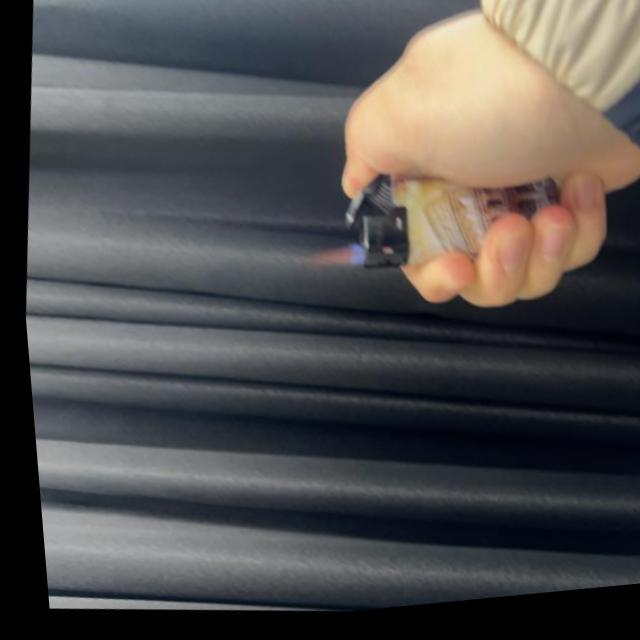Fire: (295, 243, 362, 279)
